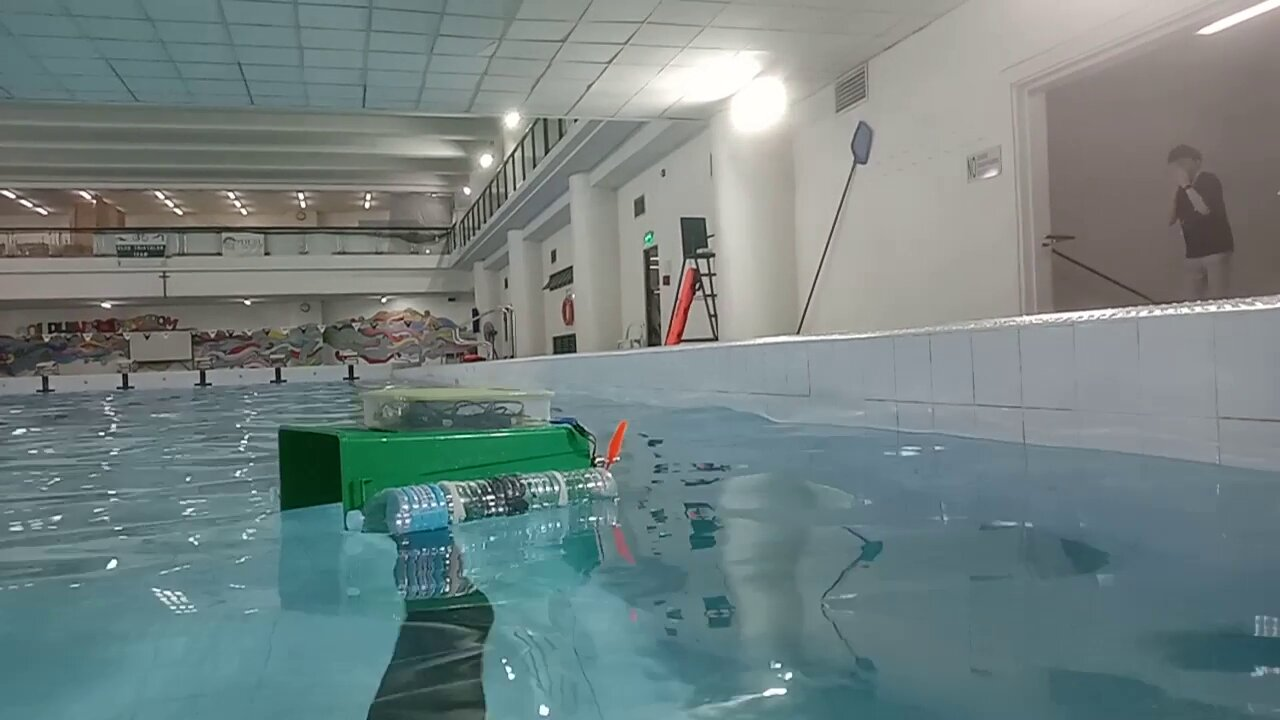drone: (278, 386, 628, 532)
